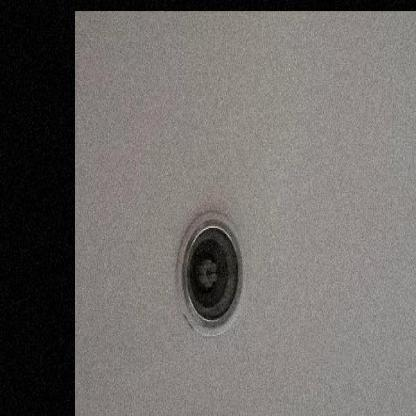light_off: (168, 188, 256, 341)
